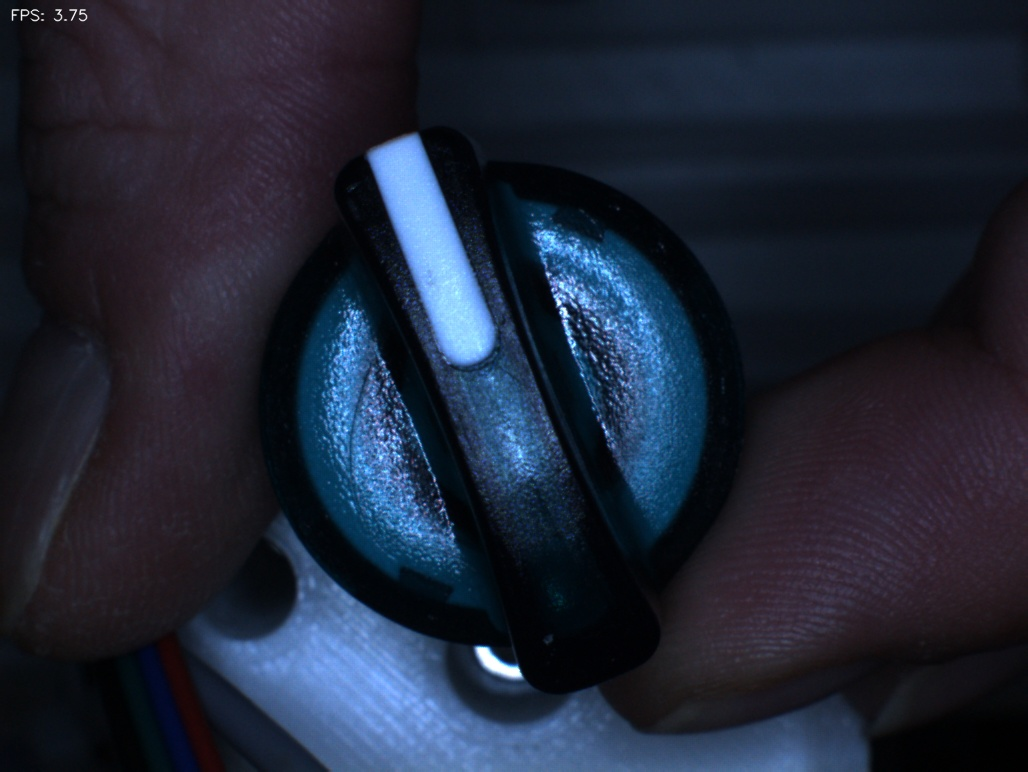PointNoir: (389, 233, 473, 321)
